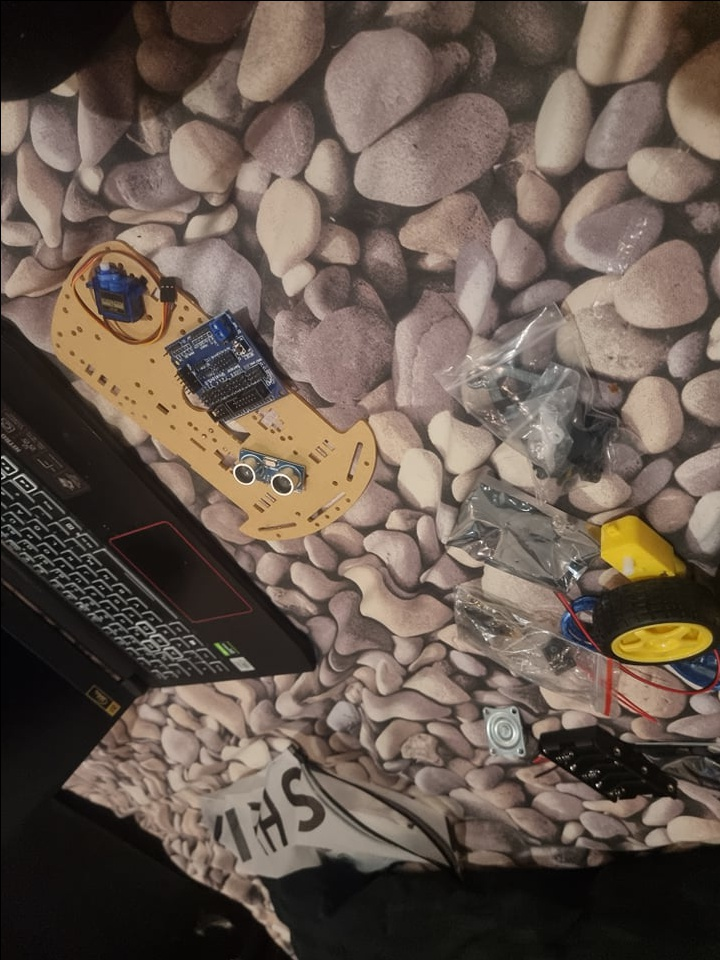5V EXPANSION: (161, 309, 292, 423)
BATTERY BOX: (539, 722, 680, 819)
SENSOR: (230, 447, 306, 497)
